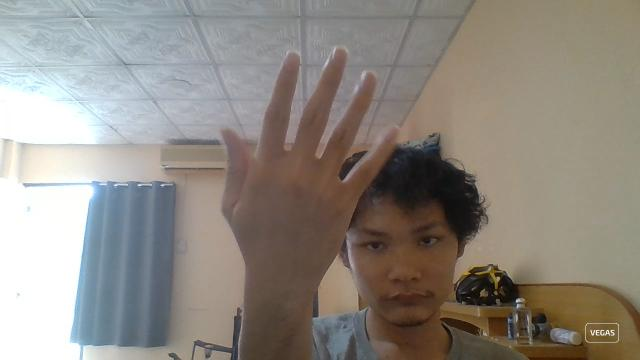backword: (219, 44, 399, 294)
